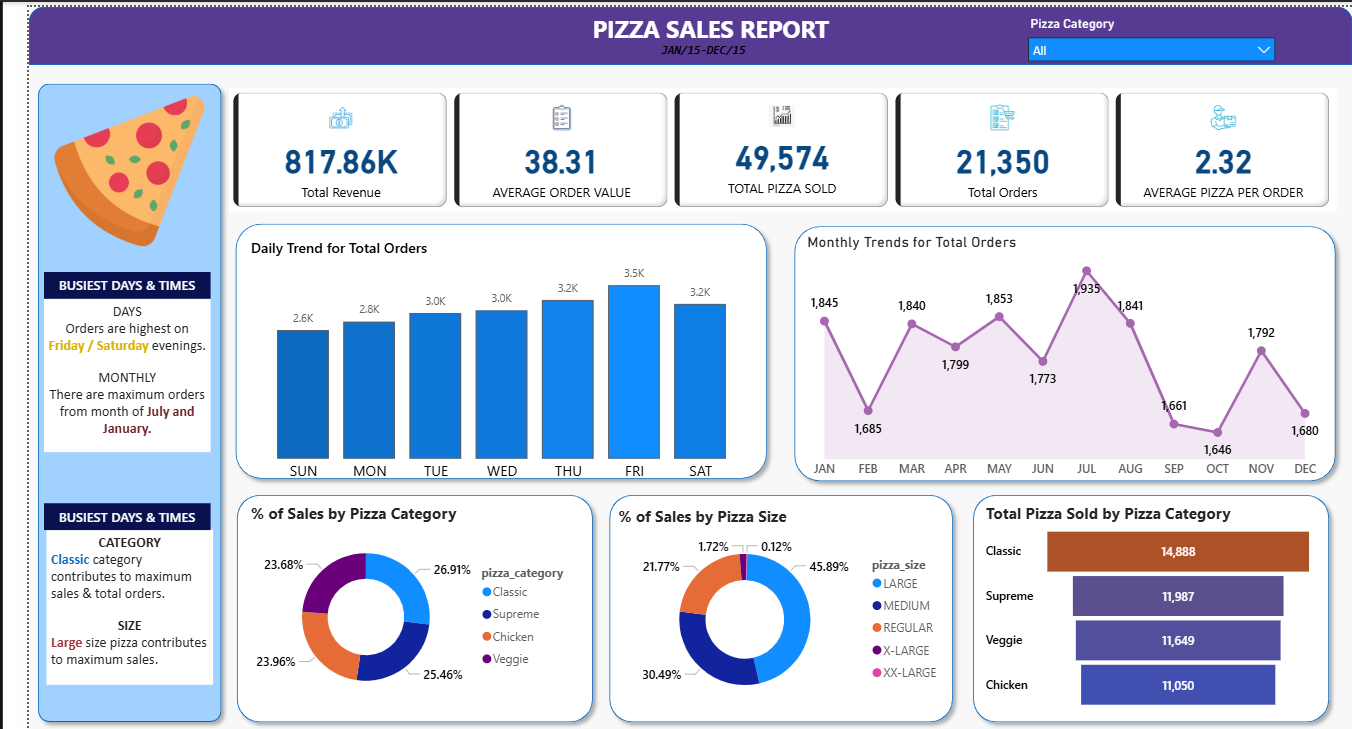

The page's visual inventory and layout, read from the dashboard file:
{"tool":"powerbi","page":{"name":"Home","canvas":[1500,820],"ordinal":0},"visuals":[{"type":"cardVisual","fields":{"Data":["project1 pizza_sales.Total Revenue","project1 pizza_sales.AVERAGE ORDER VALUE","project1 pizza_sales.TOTAL PIZZA SOLD","project1 pizza_sales.Total Orders","project1 pizza_sales.AVERAGE PIZZA PER ORDER"]},"box":[227.1,91.4,1255.7,140],"z":0},{"type":"shape","box":[0,0,1500,65.7],"z":1000},{"type":"textbox","box":[627.1,1.4,290,50],"z":2000},{"type":"textbox","box":[675.7,34.3,177.1,44.3],"z":3000},{"type":"shape","box":[225.7,237.1,620,307.1],"z":4000},{"type":"clusteredColumnChart","title":"Daily Trend for Total Orders","fields":{"Category":["project1 pizza_sales.Order Day"],"Y":["project1 pizza_sales.Total Orders"]},"box":[246.9,260,580,287.1],"z":5000},{"type":"shape","box":[858.6,240,631.4,307.1],"z":6000},{"type":"areaChart","title":"Monthly Trends for Total Orders","fields":{"Category":["project1 pizza_sales.Order Month"],"Y":["project1 pizza_sales.Total Orders"]},"box":[877.4,256.6,594.3,287.1],"z":7000},{"type":"shape","box":[1061.4,544.3,421.4,275.7],"z":8000},{"type":"shape","box":[648.6,544.3,407.1,275.7],"z":9000},{"type":"shape","box":[227.1,544.3,421.4,275.7],"z":10000},{"type":"donutChart","title":"% of Sales by Pizza Category","fields":{"Category":["project1 pizza_sales.pizza_category"],"Y":["project1 pizza_sales.Total Revenue"]},"box":[247.1,562.9,380,235.7],"z":11000},{"type":"donutChart","title":"% of Sales by Pizza Size","fields":{"Y":["project1 pizza_sales.Total Revenue"],"Category":["project1 pizza_sales.pizza_size"]},"box":[662.9,565.7,380,235.7],"z":12000},{"type":"funnel","title":"Total Pizza Sold by Pizza Category","fields":{"Category":["project1 pizza_sales.pizza_category"],"Y":["project1 pizza_sales.TOTAL PIZZA SOLD"]},"box":[1080,562.9,381.4,238.6],"z":13000},{"type":"shape","box":[1.4,78.6,225.7,741.4],"z":13001},{"type":"textbox","box":[17.1,330,188.6,174.3],"z":13002},{"type":"textbox","box":[17.1,300,188.6,30],"z":13003},{"type":"textbox","box":[20,592.9,188.6,175.7],"z":13004},{"type":"textbox","box":[17.1,562.9,188.6,30],"z":13005},{"type":"slicer","fields":{"Values":["project1 pizza_sales.pizza_category"]},"box":[1121.4,5.7,300,57.1],"z":13006},{"type":"image","box":[20,91.4,188.6,188.6],"z":13007}]}

Visuals, with their boxes in screenshot pixels (x1, y1, x2, y2), scaled from the page's 1500x820 canvas onto the 1352x729 screenshot:
cardVisual - project1 pizza_sales.Total Revenue x project1 pizza_sales.AVERAGE ORDER VALUE: (205, 81, 1336, 206)
shape: (0, 0, 1351, 58)
textbox: (565, 1, 827, 46)
textbox: (609, 30, 769, 70)
shape: (203, 211, 762, 484)
"Daily Trend for Total Orders" clusteredColumnChart: (223, 231, 745, 486)
shape: (774, 213, 1343, 486)
"Monthly Trends for Total Orders" areaChart: (791, 228, 1326, 483)
shape: (957, 484, 1336, 728)
shape: (585, 484, 952, 728)
shape: (205, 484, 585, 728)
"% of Sales by Pizza Category" donutChart: (223, 500, 565, 710)
"% of Sales by Pizza Size" donutChart: (597, 503, 940, 712)
"Total Pizza Sold by Pizza Category" funnel: (973, 500, 1317, 713)
shape: (1, 70, 205, 728)
textbox: (15, 293, 185, 448)
textbox: (15, 267, 185, 293)
textbox: (18, 527, 188, 683)
textbox: (15, 500, 185, 527)
slicer - project1 pizza_sales.pizza_category: (1011, 5, 1281, 56)
image: (18, 81, 188, 249)
